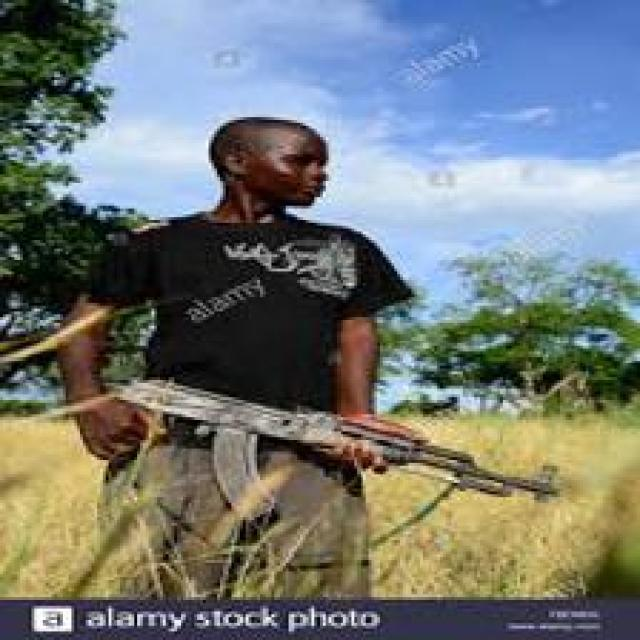Rifle: (100, 354, 549, 552)
